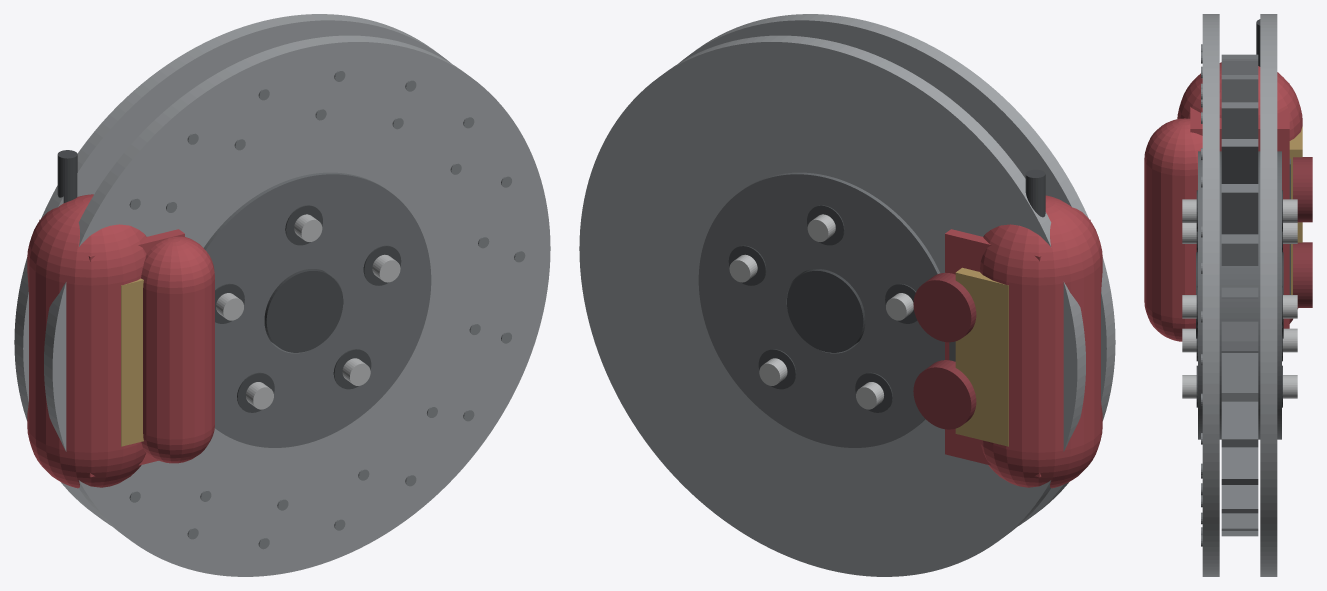
File: disc-brake-educational.glb
The picture shows the model from 3 angles, left to right: view 1: azimuth 30°, elevation 25°; view 2: azimuth 150°, elevation 25°; view 3: azimuth 270°, elevation 25°; orthographic projection. The views are drawn at different scales.
Visible parts, largest first — view 1: rotor_front_friction_ring, caliper_body, hub_bell, rotor_rear_friction_ring, axle_opening, outer_pad_backing, brake_hose_connection; view 2: rotor_rear_friction_ring, hub_bell, caliper_body, rotor_front_friction_ring, inner_pad_backing, axle_opening, hydraulic_piston_top, hydraulic_piston_bottom, brake_hose_connection; view 3: caliper_body, rotor_front_friction_ring, rotor_rear_friction_ring, hub_bell, vent_vane_04, vent_vane_00, vent_vane_27, vent_vane_05, vent_vane_26, vent_vane_06, hydraulic_piston_bottom, hydraulic_piston_top (+13 smaller).
Boxes of the visible parts, x1,y1,x2,y2 form: rotor_front_friction_ring: (44, 35, 550, 576); caliper_body: (27, 194, 214, 488); hub_bell: (204, 172, 431, 447); rotor_rear_friction_ring: (14, 14, 450, 525); axle_opening: (264, 269, 342, 352); outer_pad_backing: (121, 278, 143, 446); brake_hose_connection: (57, 150, 77, 202); rotor_rear_friction_ring: (579, 35, 1085, 576); hub_bell: (698, 172, 944, 447); caliper_body: (945, 195, 1102, 488); rotor_front_friction_ring: (679, 14, 1115, 525); inner_pad_backing: (955, 267, 1008, 446); axle_opening: (787, 269, 865, 352); hydraulic_piston_top: (913, 272, 976, 342); hydraulic_piston_bottom: (913, 360, 976, 429); brake_hose_connection: (1025, 169, 1045, 217); caliper_body: (1144, 62, 1302, 341); rotor_front_friction_ring: (1202, 14, 1219, 576); rotor_rear_friction_ring: (1260, 14, 1277, 576); hub_bell: (1198, 151, 1281, 439); vent_vane_04: (1221, 184, 1258, 234); vent_vane_00: (1221, 353, 1258, 401); vent_vane_27: (1221, 401, 1258, 447); vent_vane_05: (1221, 139, 1258, 183); vent_vane_26: (1221, 447, 1258, 484); vent_vane_06: (1221, 102, 1258, 138); hydraulic_piston_bottom: (1293, 242, 1312, 307); hydraulic_piston_top: (1293, 157, 1312, 222).
Size of the model in its own units: 4.3 by 4.3 by 1.29.
